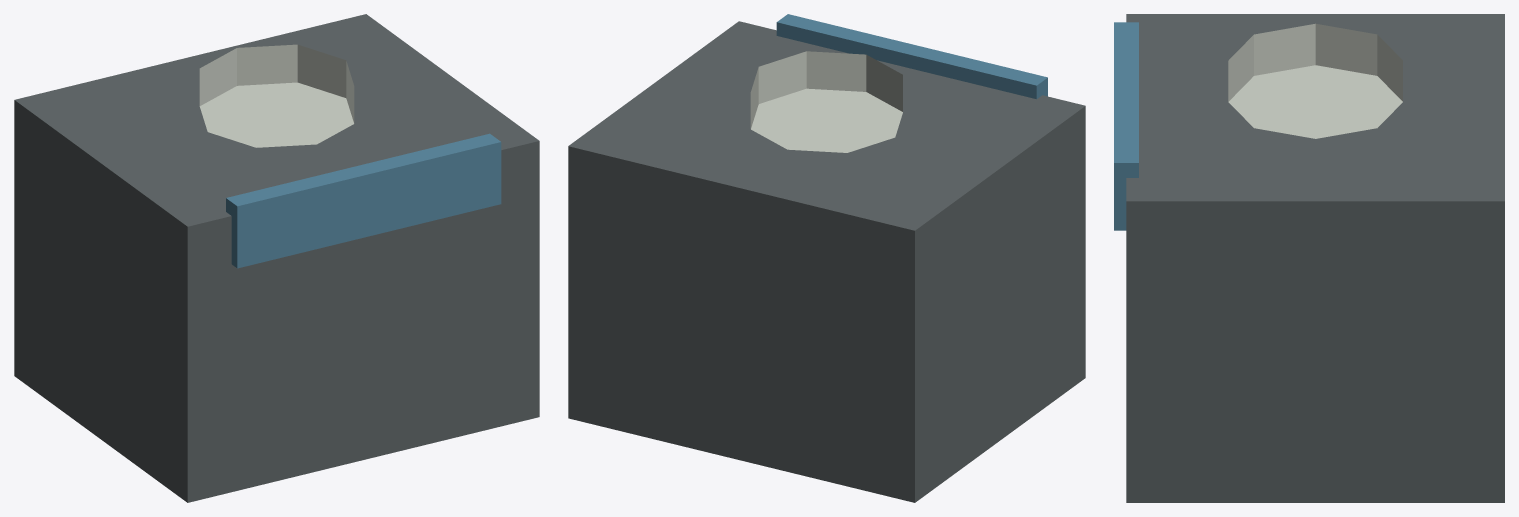
Rendered from pitta_warmer.glb.
The picture shows the model from 3 angles, left to right: view 1: azimuth 30°, elevation 25°; view 2: azimuth 150°, elevation 25°; view 3: azimuth 270°, elevation 25°; orthographic projection. The views are drawn at different scales.
Bounding box in the file's own units: 0.32 × 0.2775 × 0.282.
1 material, 1 textured.
